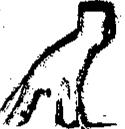Owl: (2, 0, 120, 128)
